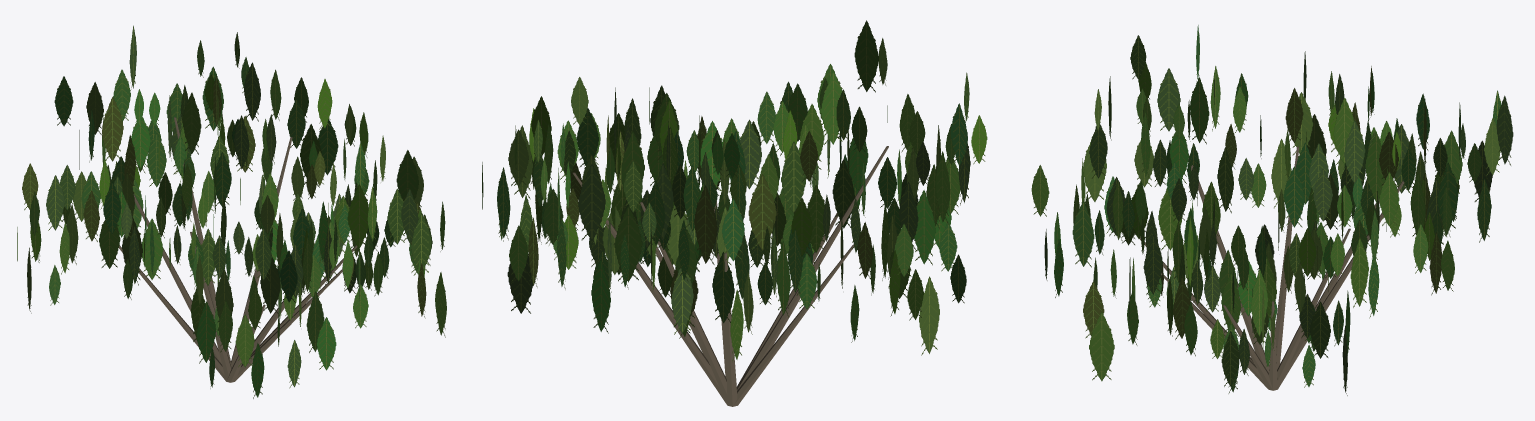
Rendered from shrub.glb.
3 renders of one model, left to right at view 1: azimuth 30°, elevation 25°; view 2: azimuth 150°, elevation 25°; view 3: azimuth 270°, elevation 25°, orthographic. The views are drawn at different scales.
Bounding box in the file's own units: 2.23 × 1.52 × 2.27.
Materials: 2 (1 with a texture image).
